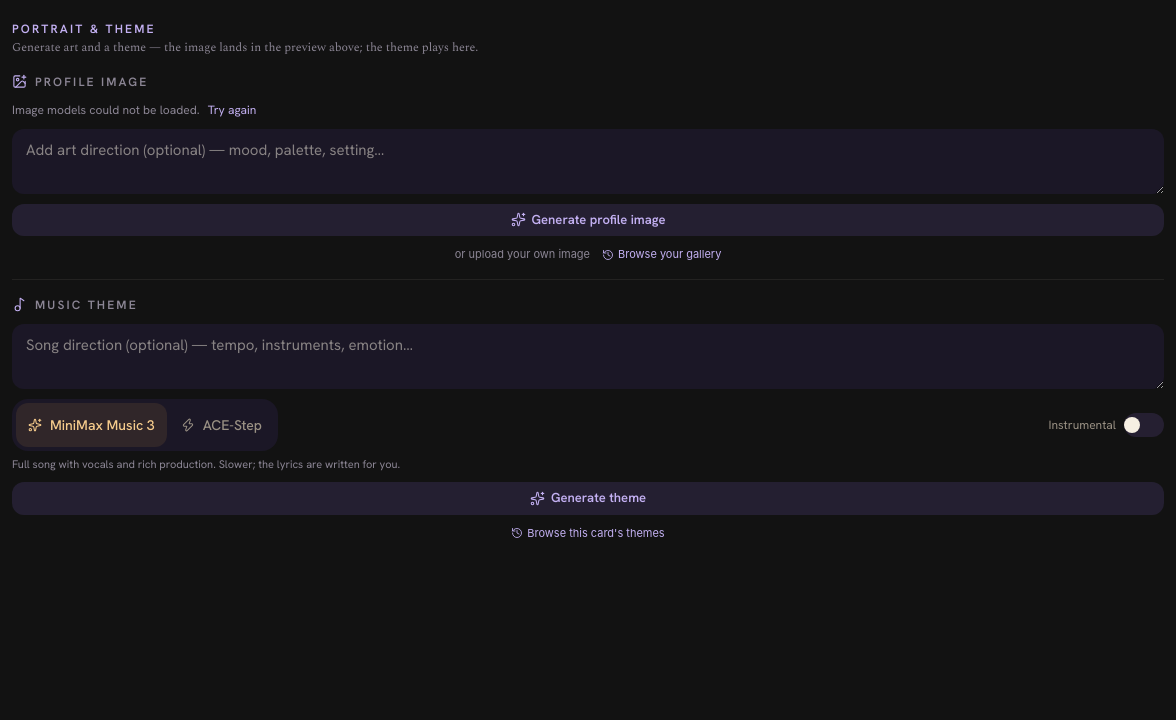
Test: MediaStudioSection image model › offers a retry when the list could not be loaded
Click the button "Try again": (232,110) x1=208 y1=100 x2=256 y2=118
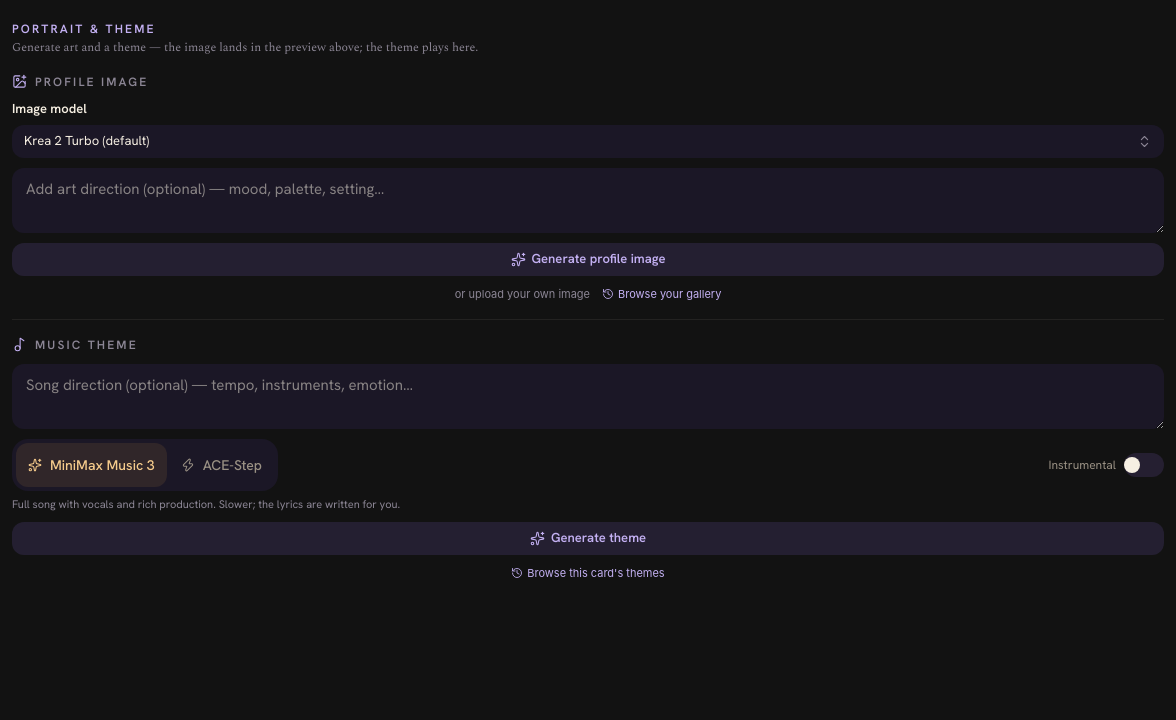
Expected: the text "Krea 2 Turbo (default)" is shown, x1=24 y1=132 x2=149 y2=149
Expected: the text "Image models could not be loaded." is gone
